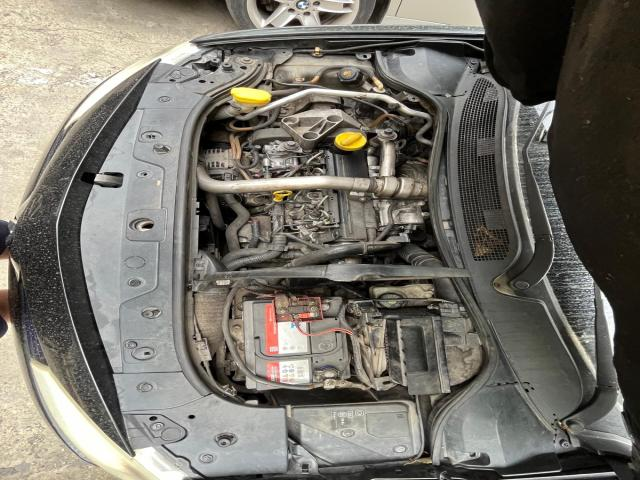accumulator: (242, 292, 367, 390)
alternator: (203, 148, 235, 174)
antifreeze_tank: (273, 53, 372, 87)
fuse_box: (288, 400, 422, 465)
high_pressure_pump: (253, 145, 302, 178)
